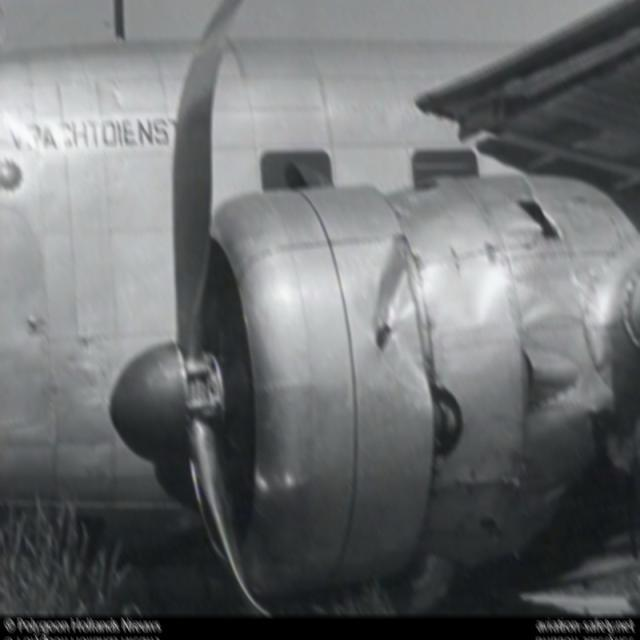dent: (366, 253, 419, 340)
